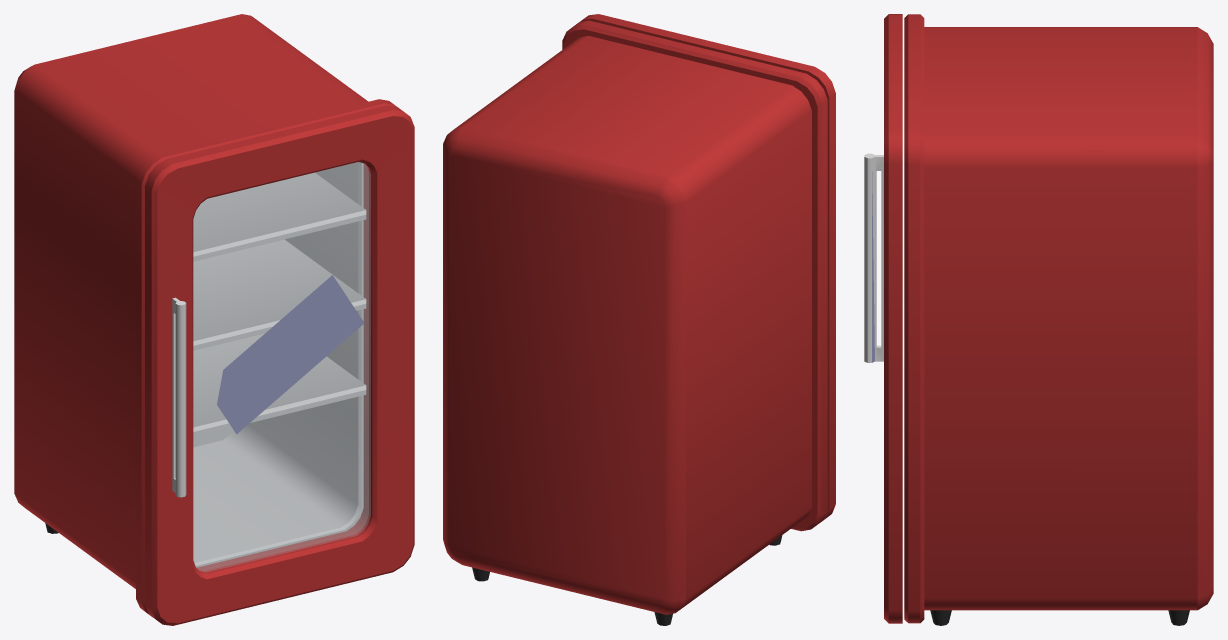
The picture shows the model from 3 angles, left to right: view 1: azimuth 30°, elevation 25°; view 2: azimuth 150°, elevation 25°; view 3: azimuth 270°, elevation 25°; orthographic projection. The views are drawn at different scales.
Parts seen in each view (by area): view 1: KL20L; view 2: KL20L; view 3: KL20L.
Boxes of the visible parts, x1,y1,x2,y2 form: KL20L: (14, 14, 414, 625); KL20L: (443, 14, 835, 625); KL20L: (864, 14, 1213, 625).
Size of the model in its own units: 27.06 by 29 by 46.02.
